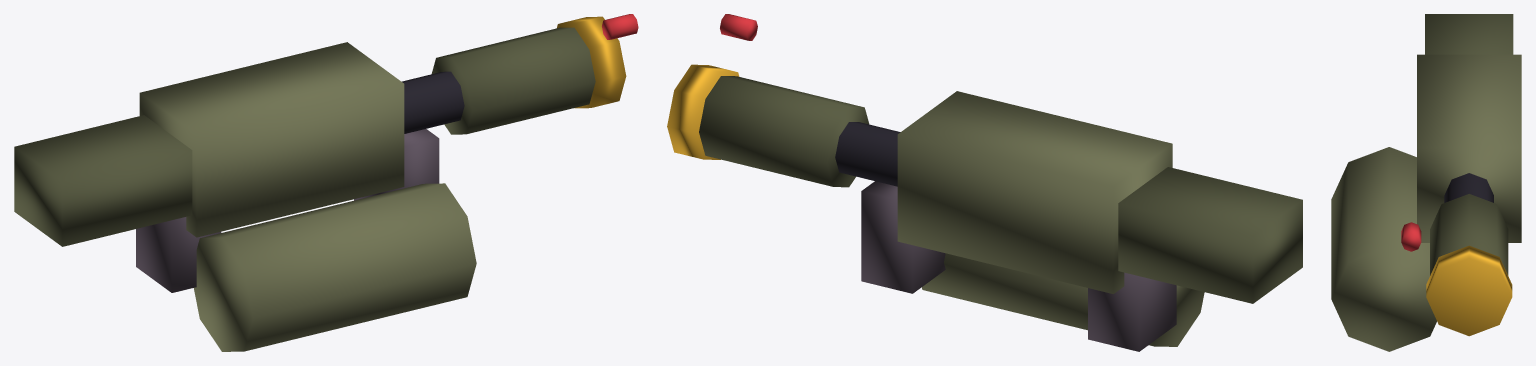
File: wpn.flamethrower.lod2.glb
3 views of the same model, side by side, from view 1: azimuth 30°, elevation 25°; view 2: azimuth 150°, elevation 25°; view 3: azimuth 270°, elevation 25° (orthographic). The views are drawn at different scales.
Visible parts, largest first — view 1: body, object 3, pilot_light; view 2: object 3, body, pilot_light; view 3: body, object 3, pilot_light.
Part boxes in pixels (<box>): body: <box>139,42,476,351</box>; object 3: <box>14,16,626,292</box>; pilot_light: <box>602,14,638,39</box>; object 3: <box>667,64,1302,351</box>; body: <box>897,91,1204,346</box>; pilot_light: <box>720,14,757,40</box>; body: <box>1331,54,1521,351</box>; object 3: <box>1425,14,1513,336</box>; pilot_light: <box>1401,222,1421,251</box>.
Bounding box in the file's own units: 1.09 × 0.416 × 0.345.
